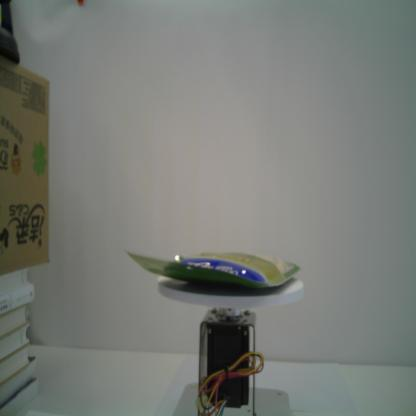Dried Fruit: (119, 246, 303, 294)
